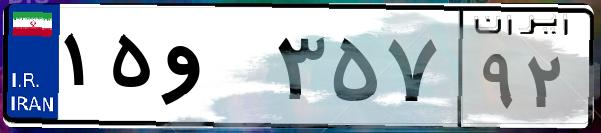1: (57, 26, 110, 100)
2: (525, 38, 570, 115)
3: (270, 28, 330, 110)
5: (330, 28, 385, 110), (110, 28, 158, 98)
7: (385, 28, 445, 110)
9: (475, 38, 525, 113)
و: (158, 20, 270, 120)
